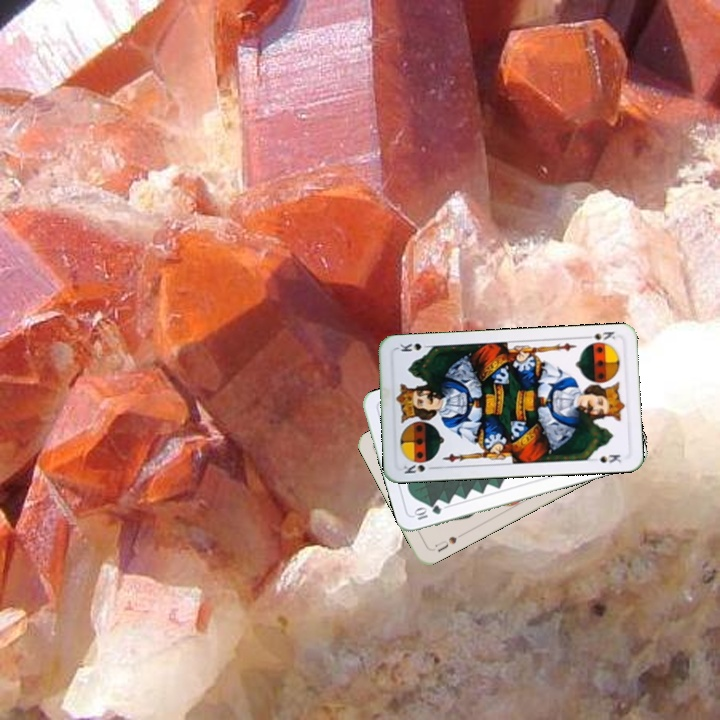G10: (410, 501, 444, 522)
SK: (399, 460, 439, 476), (580, 327, 617, 343)
SU: (430, 529, 466, 555)
